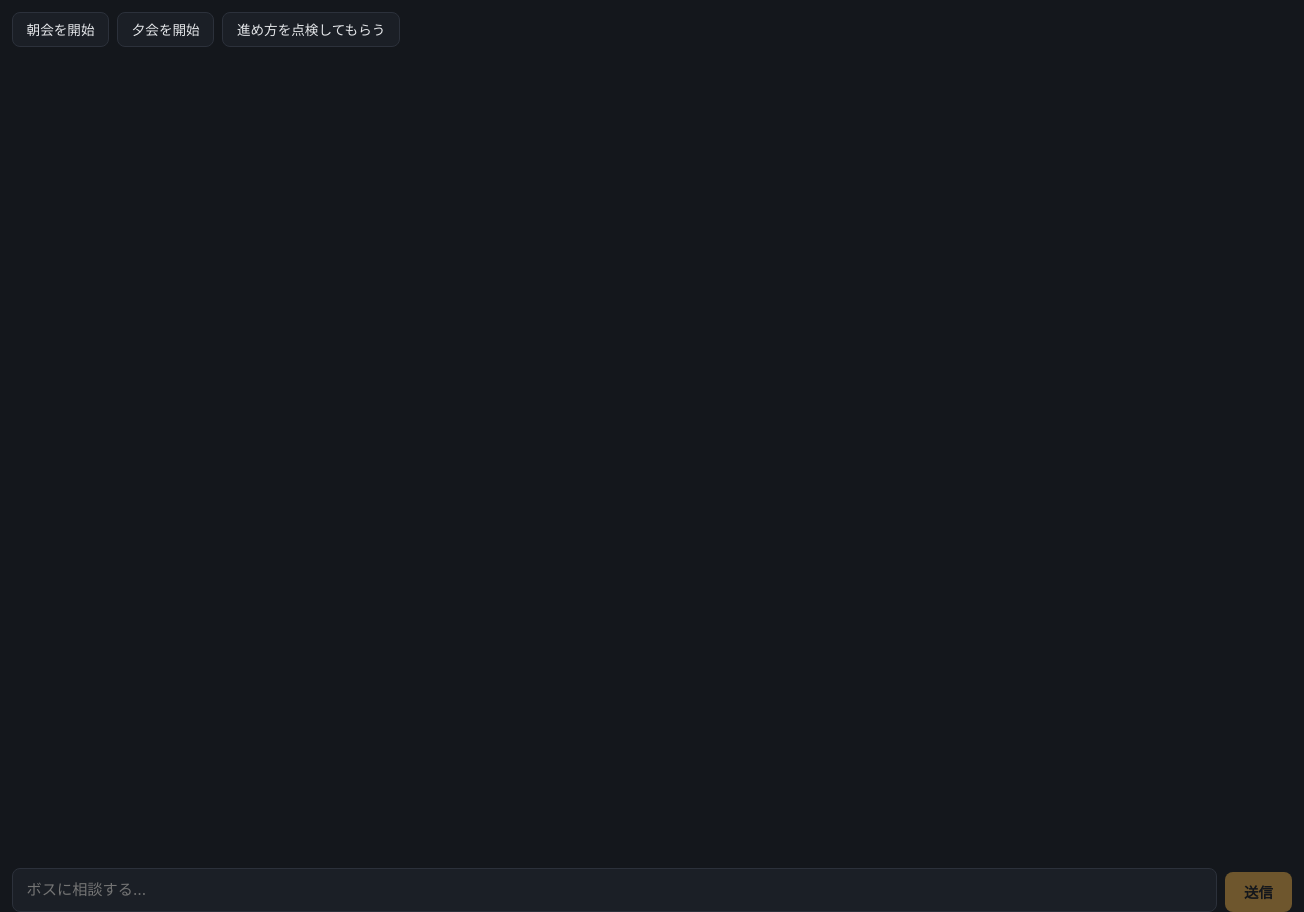
ChatView › swaps the send button for an enabled stop button while a message is in flight, and keeps the input disabled (#254)
In the text box named "メッセージ": (614, 890) [12,868,1217,911], type "相談があります"
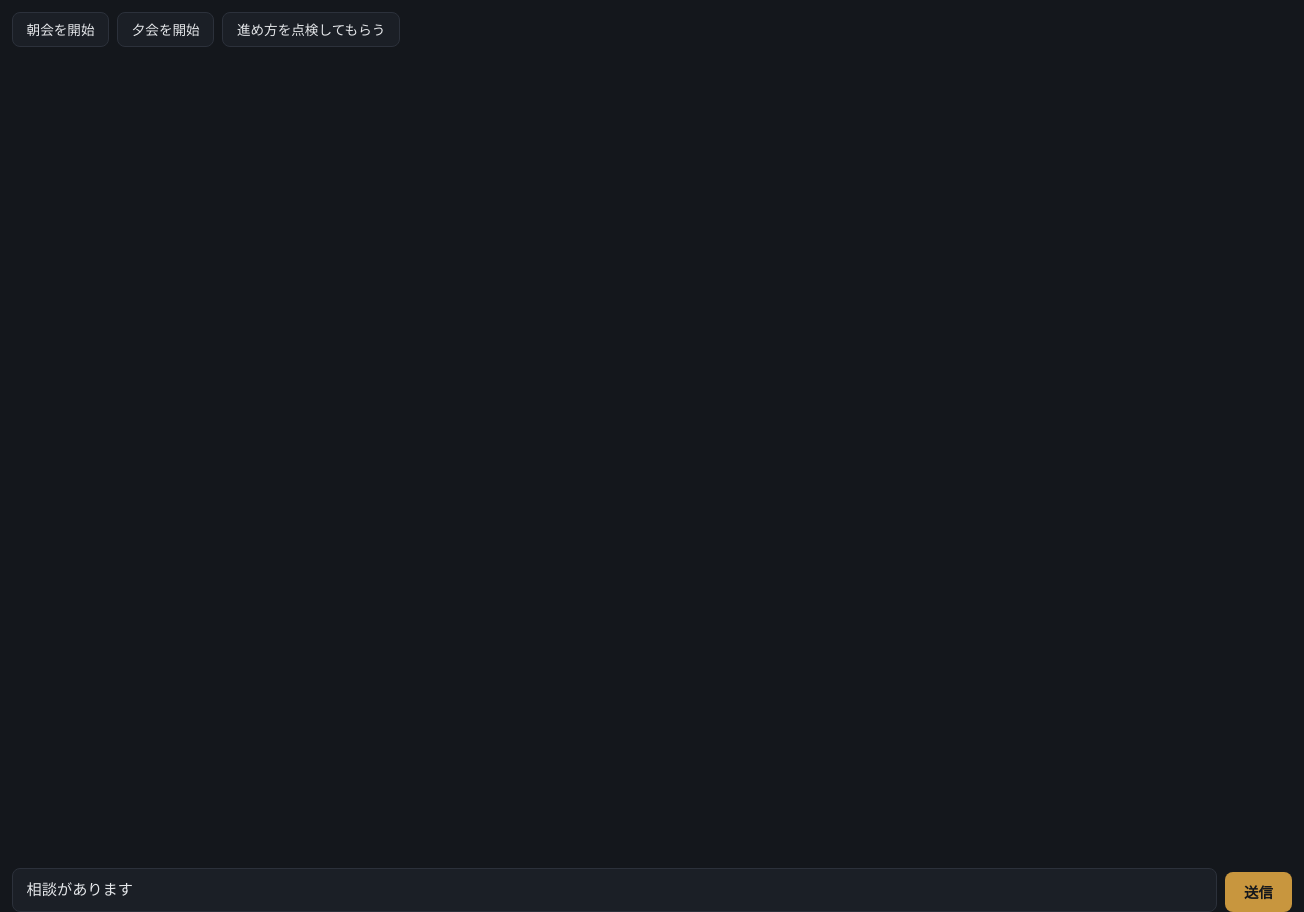
Click the button "送信": (1258, 892) [1225,872,1292,911]
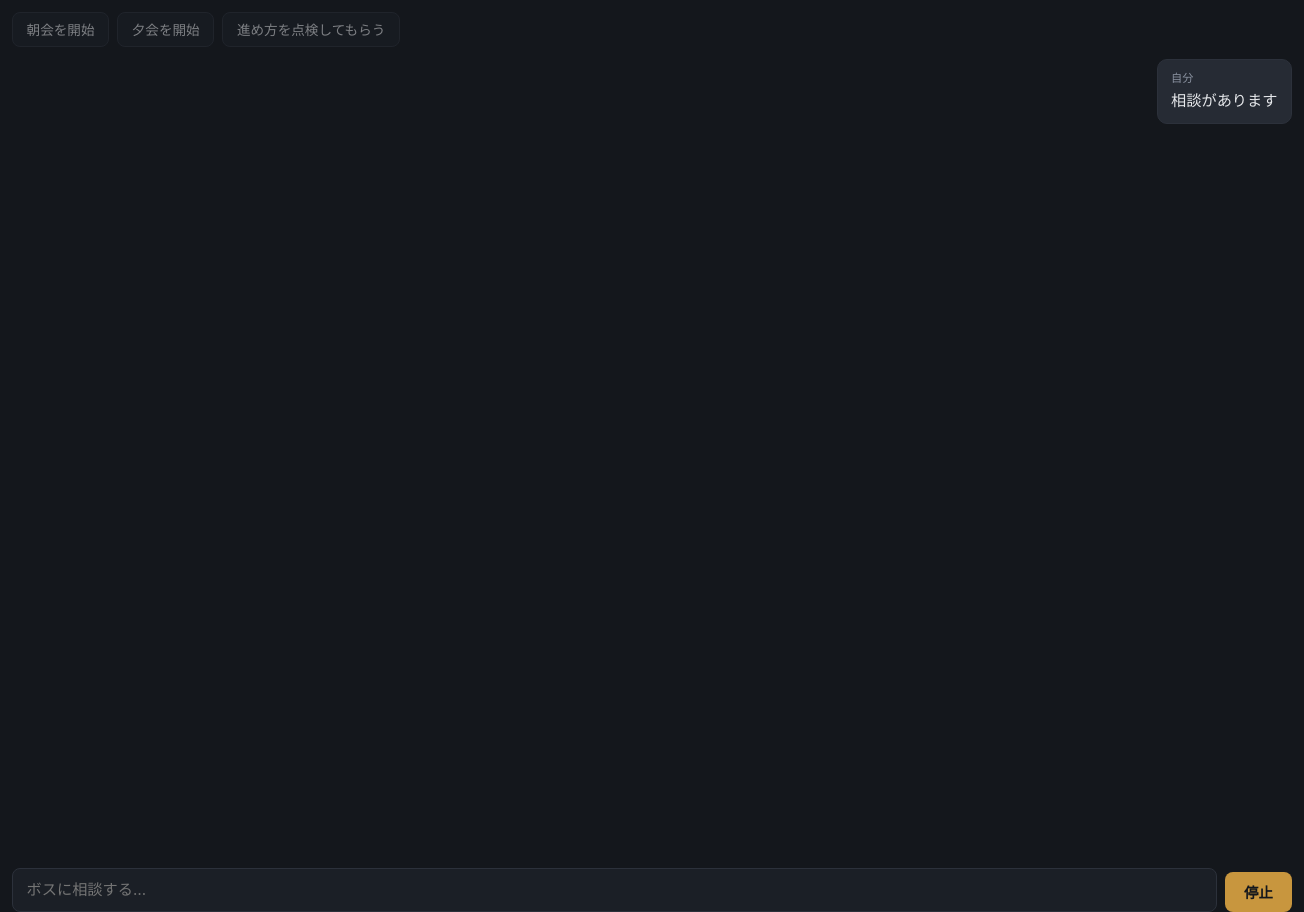
Expected: the button with aria-label "生成を停止" is enabled, [1225,872,1292,911]
Expected: the button "送信" is gone
Expected: the text box named "メッセージ" is disabled, [12,868,1217,911]
